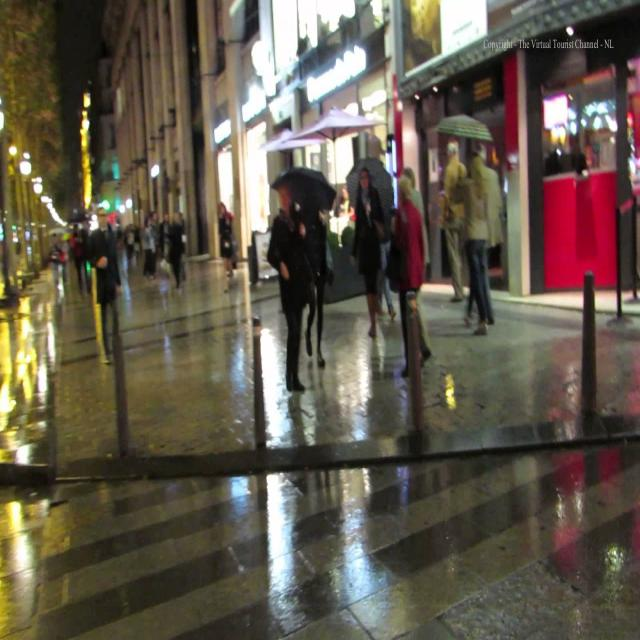body: (46, 210, 189, 286), (266, 182, 316, 394), (450, 138, 493, 337), (389, 171, 426, 381), (401, 166, 433, 369), (86, 206, 124, 371), (350, 166, 386, 340), (442, 137, 470, 304), (291, 8, 369, 61), (304, 193, 327, 369), (535, 126, 598, 181), (217, 202, 234, 292), (481, 238, 498, 327), (166, 207, 184, 290), (331, 187, 357, 228)
